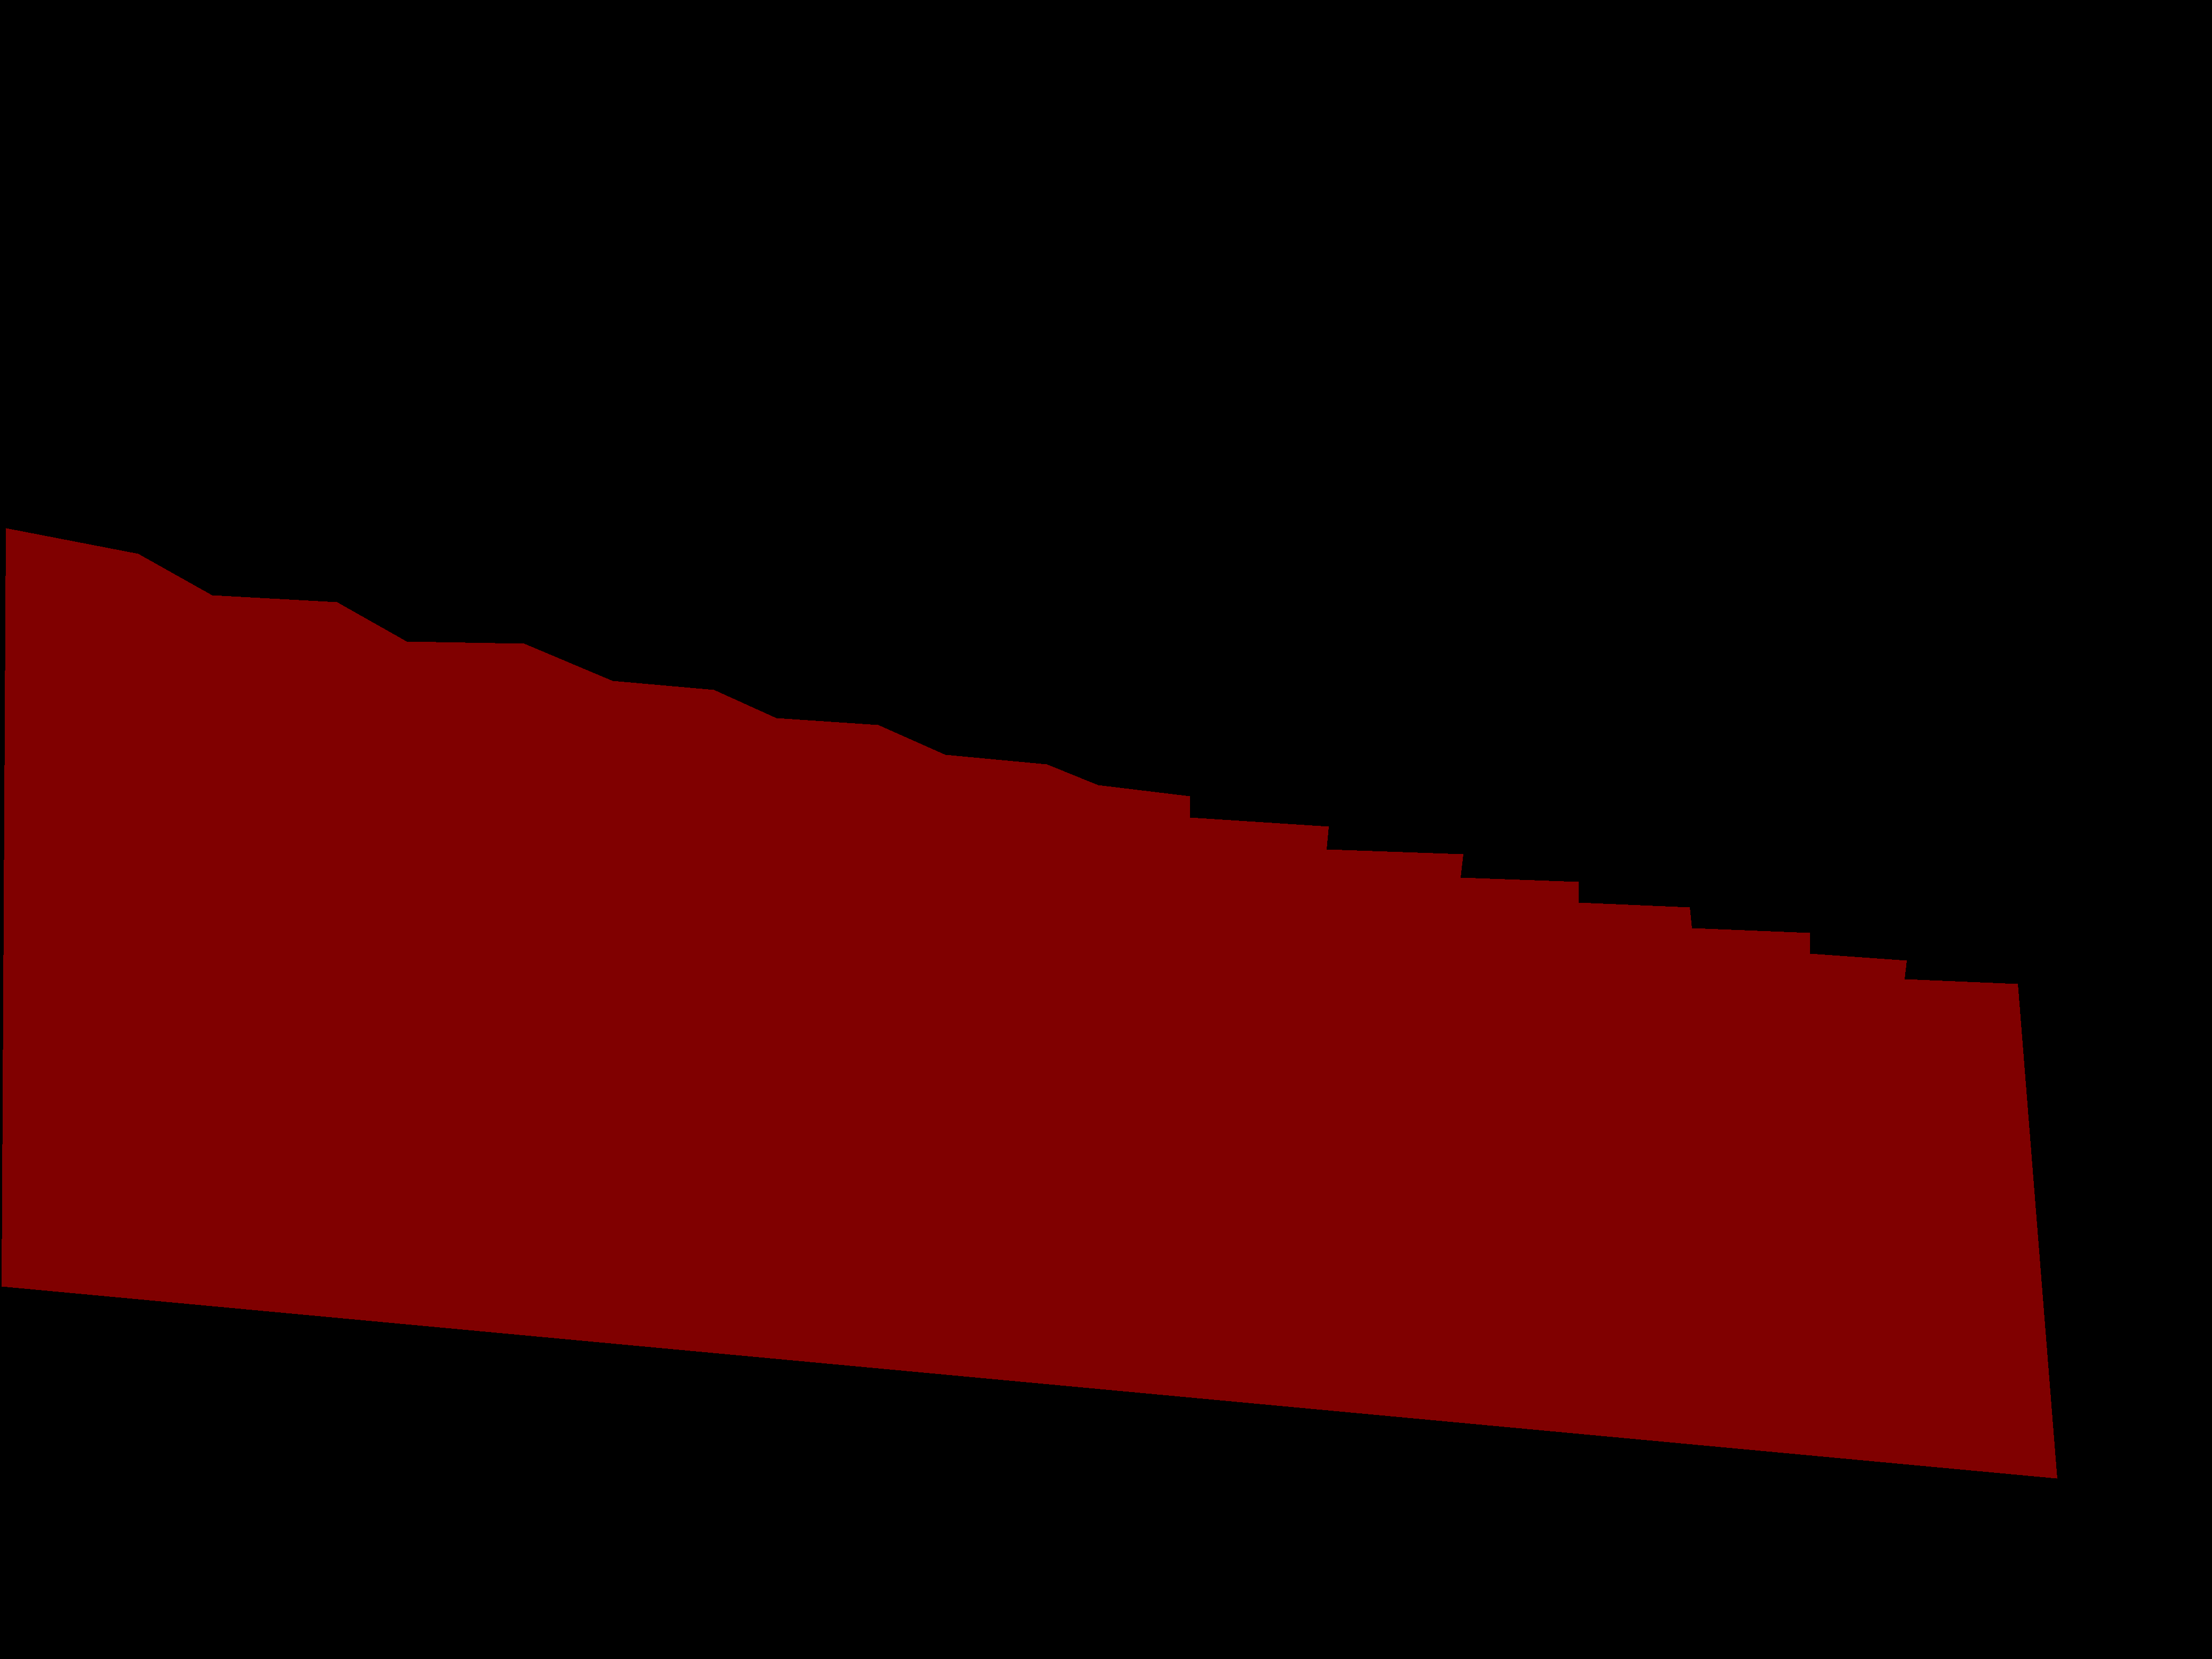stair: (2, 528, 2057, 1478)
